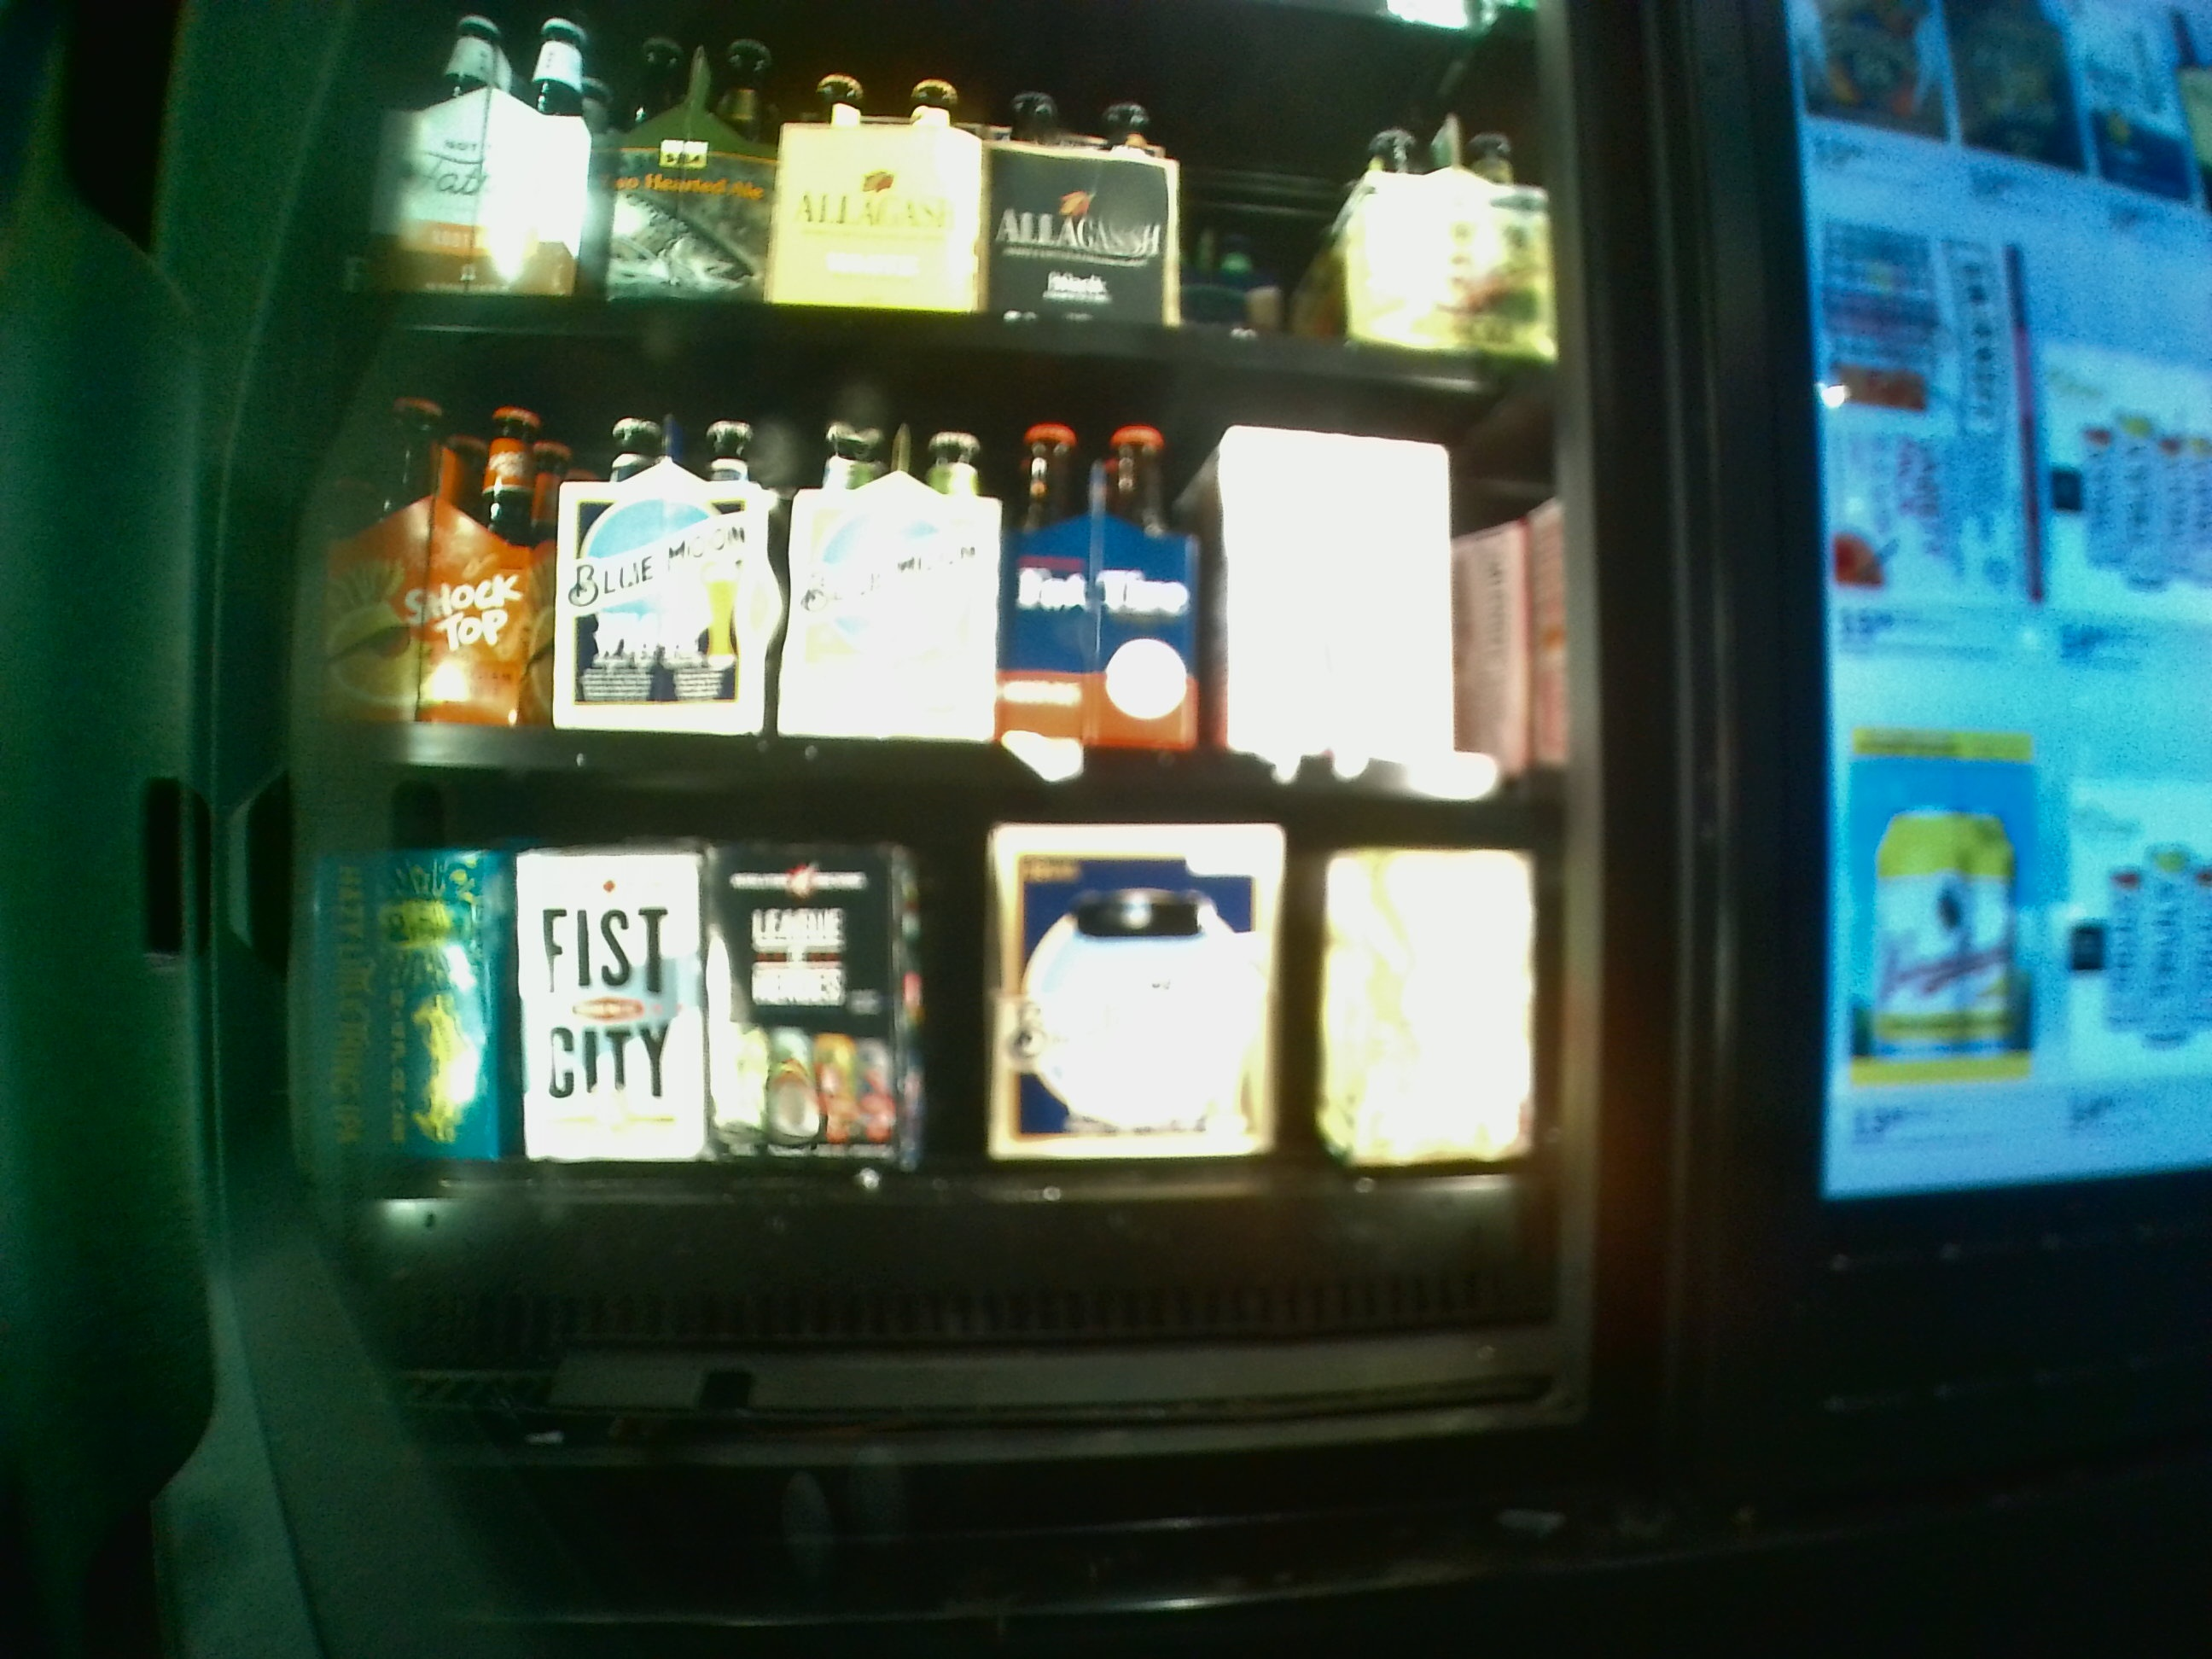shelf: (298, 817, 1569, 1419), (303, 331, 1559, 802)
